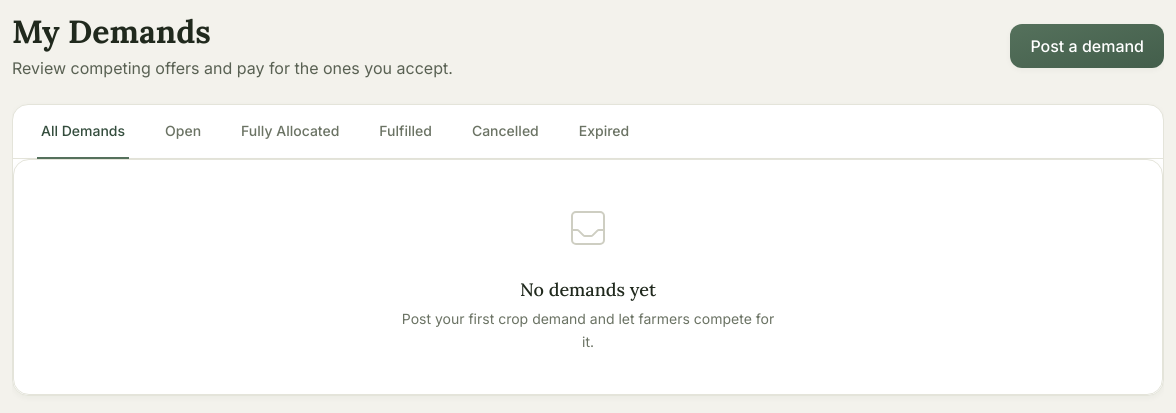
Test: MyDemandsPage status tabs › shows a tab-specific empty state
Step 1. Click the button "Cancelled" → (505, 132), box [468,105,543,159]
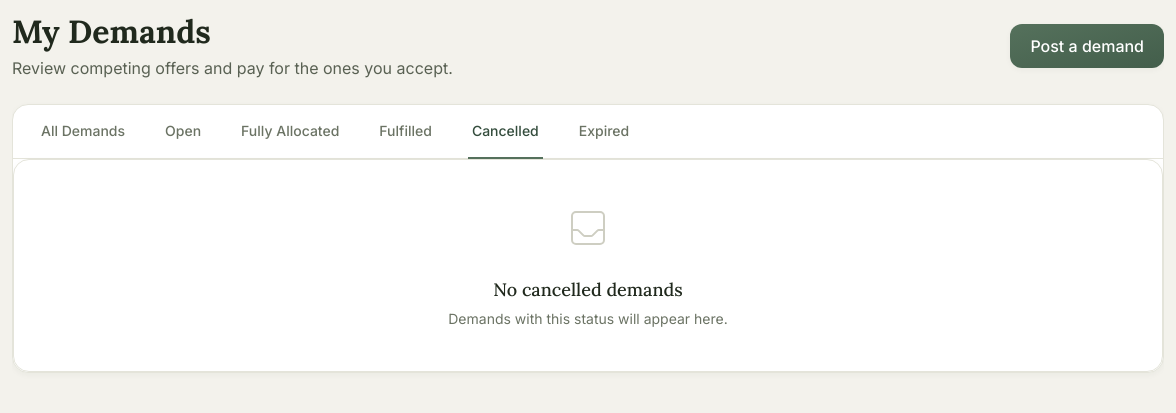
Check: the text "No cancelled demands" is shown, box [493,278,683,301]
